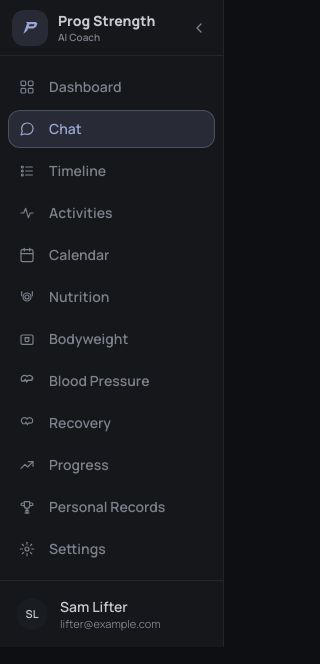
Test: Sidebar — account anchor › opens the menu with Sign out and toggles aria-expanded
This screenshot has width=320, height=664.
Step 1. Click the button with aria-label "Account" → (112, 614), box [8,589,215,639]
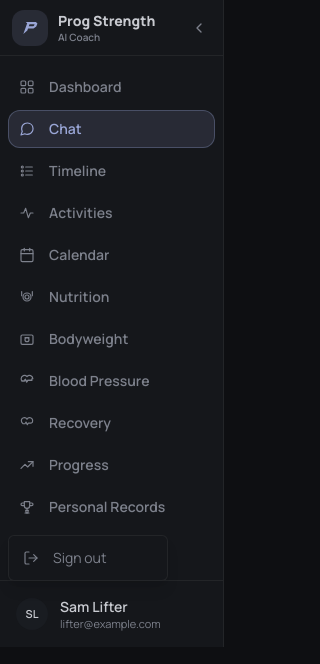
Check: the menu is shown, box [8,535,168,581]
Check: the menu item "Sign out" is shown, box [13,540,163,576]
